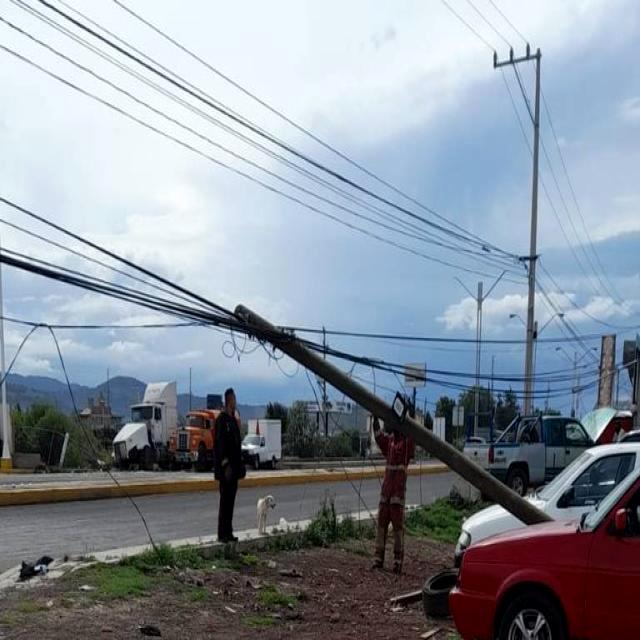Broken Pole: (231, 301, 555, 527)
